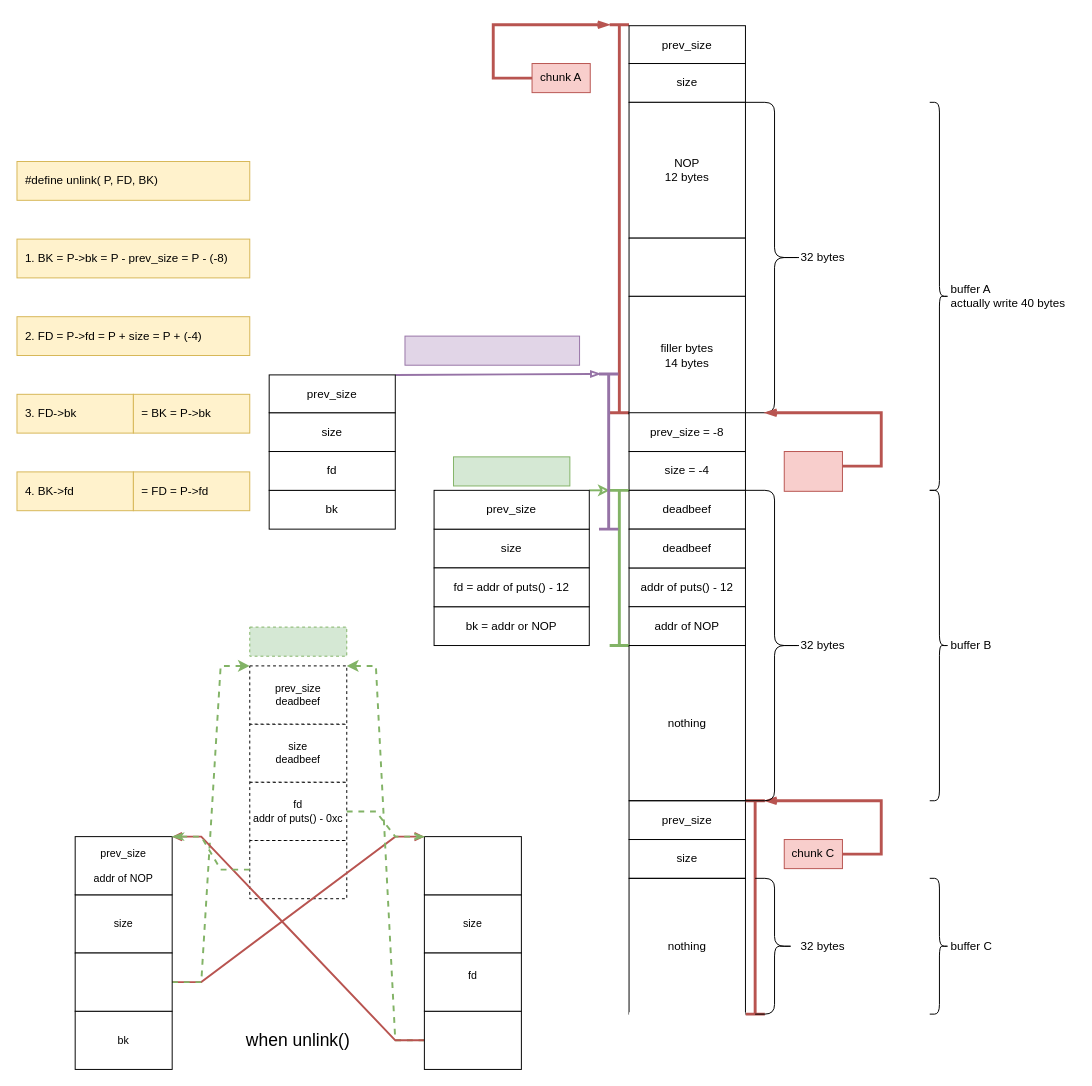
This 1092x1086 diagram has some shape labels left out. Each missing label, with the centre of its shape:
"bk addr of NOP" goes at (x=298, y=869).
"bk addr of puts()" goes at (x=472, y=1039).
"chunk B" goes at (x=812, y=471).
"chunk B's fake bk (we dont care)" goes at (x=492, y=350).
"chunk B's fake fd" goes at (x=511, y=471).
"fake chunk" goes at (x=298, y=641).
"fd addr of NOP + 0x8" goes at (x=123, y=981).
"prev_size addr of puts() - 0xc" goes at (x=472, y=865).
"shell code total 6 bytes" goes at (x=686, y=266).
